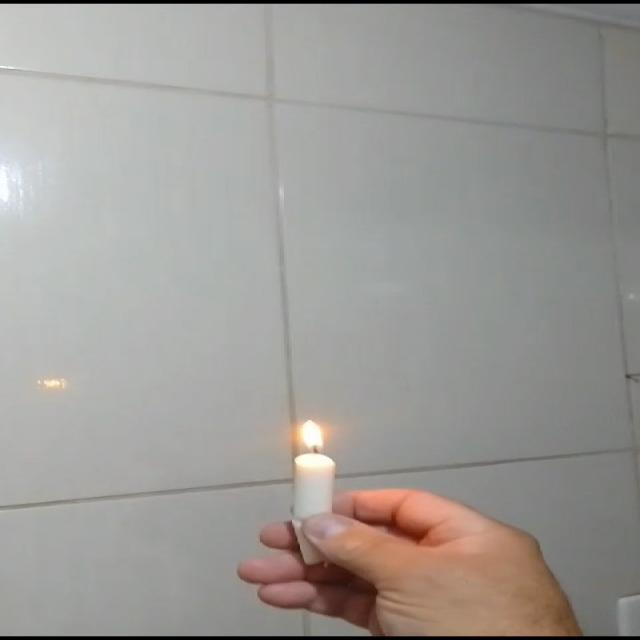fogo-ypXI: (297, 417, 327, 452)
